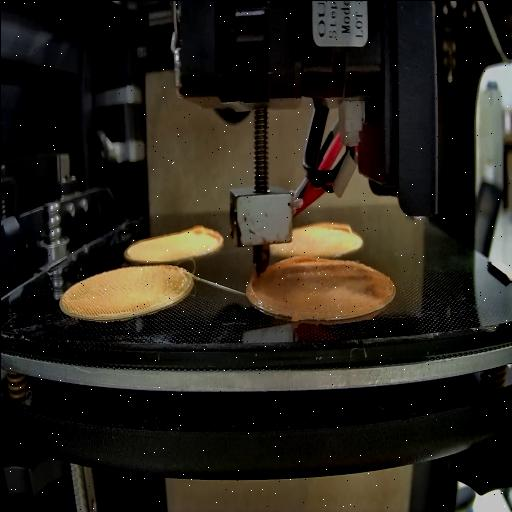over_extrusion: (268, 252, 329, 272), (190, 223, 224, 256), (320, 218, 352, 238), (246, 272, 258, 302)
